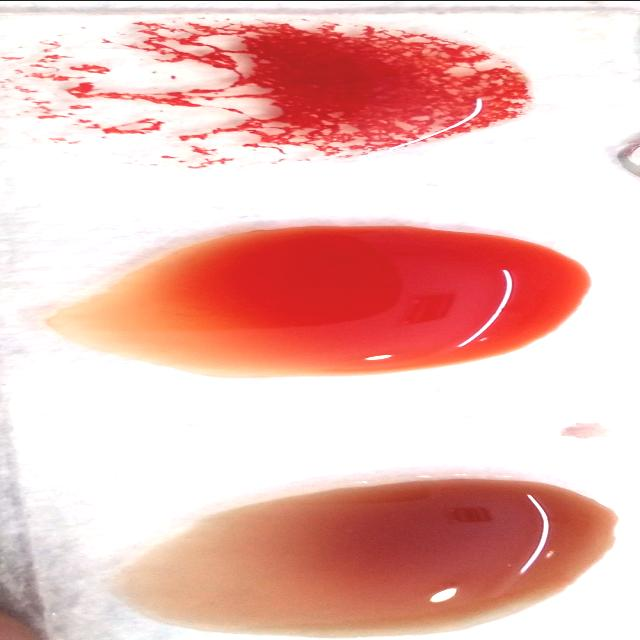D: (0, 16, 549, 160)
